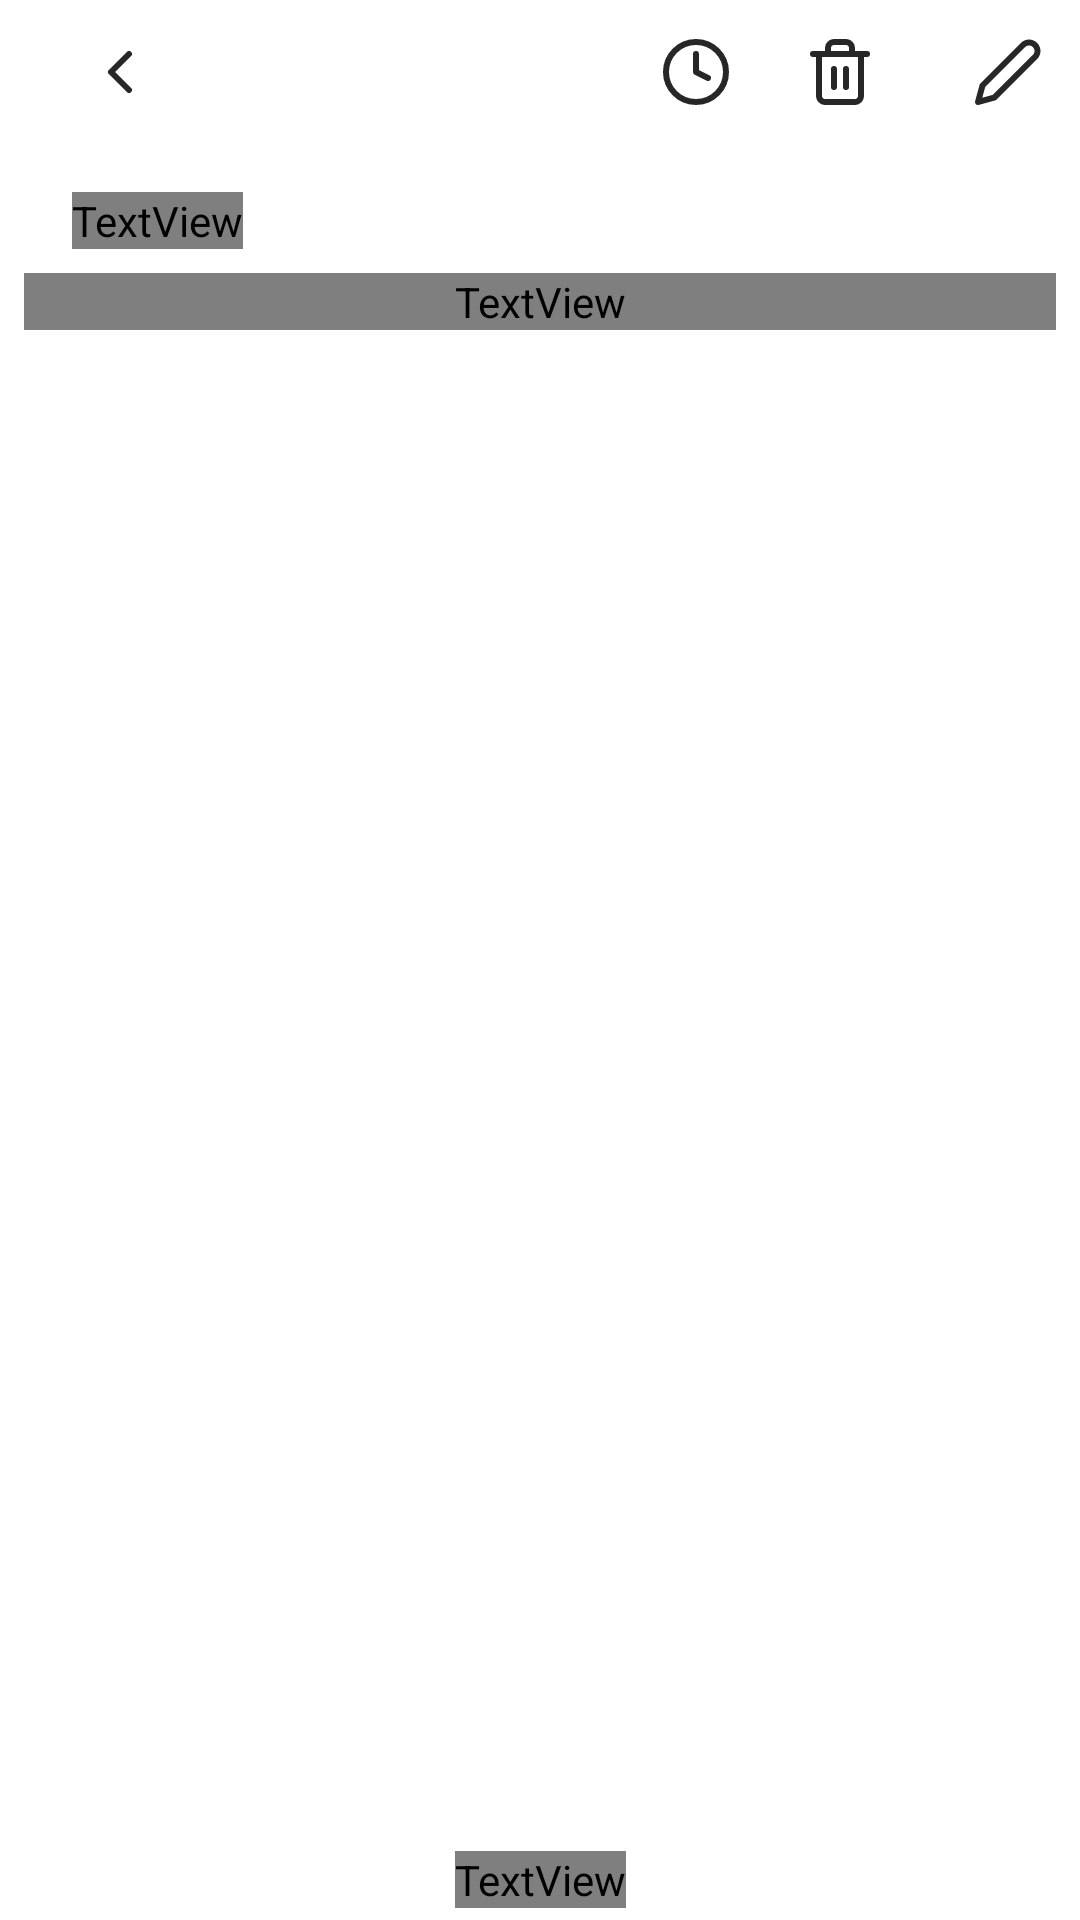

Screen size 1080 x 1920. Icon name, then its center in pixels as [x,y]:
back: [120,72]
clock: [696,72]
edit: [1008,72]
trash bin: [840,72]
